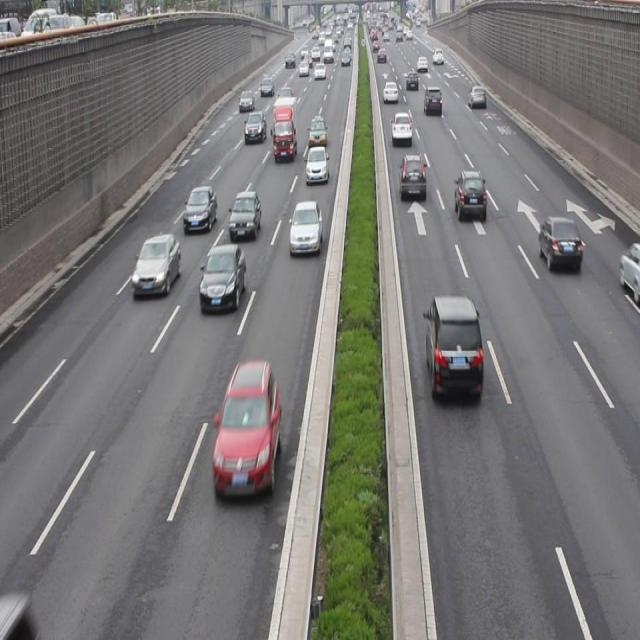bus: (272, 94, 296, 162)
car: (212, 359, 280, 496), (424, 293, 482, 399), (132, 233, 181, 300), (199, 242, 245, 312), (538, 214, 581, 272), (453, 168, 486, 223), (289, 199, 321, 253), (228, 188, 260, 240), (183, 184, 216, 234), (398, 152, 425, 201), (620, 237, 640, 303), (305, 146, 328, 183), (244, 109, 266, 143), (391, 112, 413, 144), (308, 115, 326, 147)
